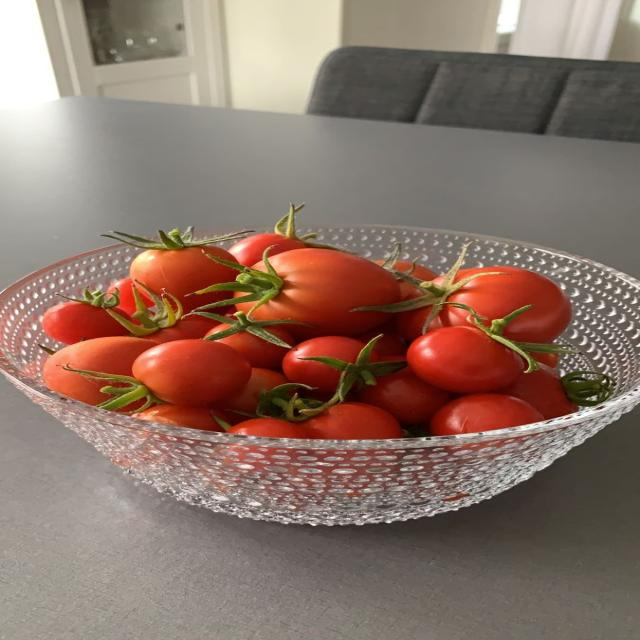tomato: (236, 249, 400, 337), (447, 266, 571, 342), (407, 326, 524, 393), (132, 340, 251, 405), (43, 337, 153, 405), (130, 246, 237, 311), (229, 204, 314, 266), (358, 368, 450, 423), (430, 394, 544, 435), (282, 336, 365, 391), (500, 364, 578, 419), (42, 301, 128, 344), (304, 403, 402, 439), (220, 368, 288, 413), (216, 331, 287, 368), (135, 405, 228, 432), (229, 234, 306, 266), (135, 405, 228, 431), (146, 316, 217, 343), (228, 419, 311, 438), (354, 330, 406, 356), (108, 278, 136, 314), (393, 261, 438, 281), (531, 354, 559, 367)
